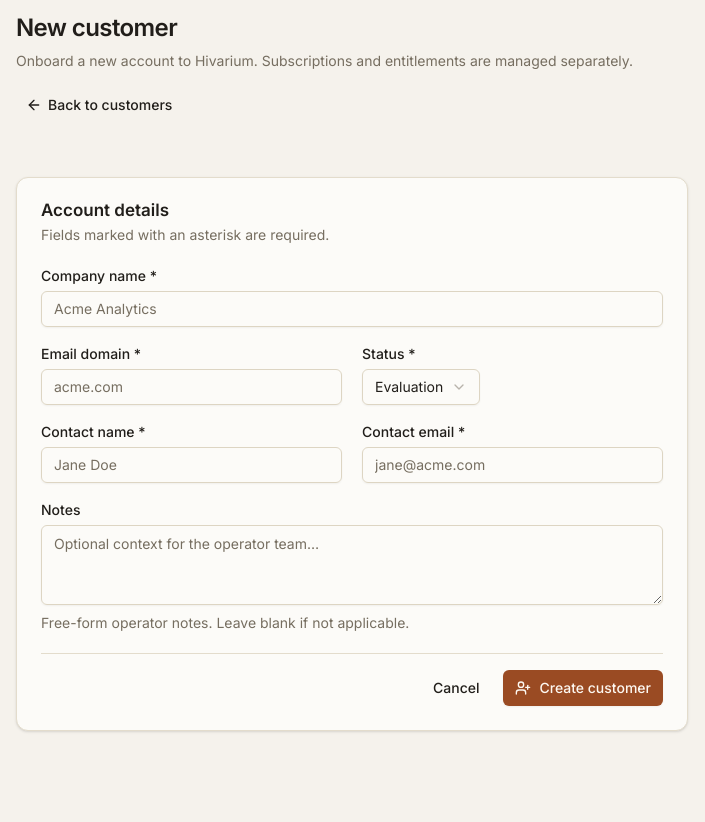
Test: CreateCustomerPage › shows a validation error for an empty company name on submit
Click the button with test id "submit-customer" at point(583, 688), box [504,670,663,706]
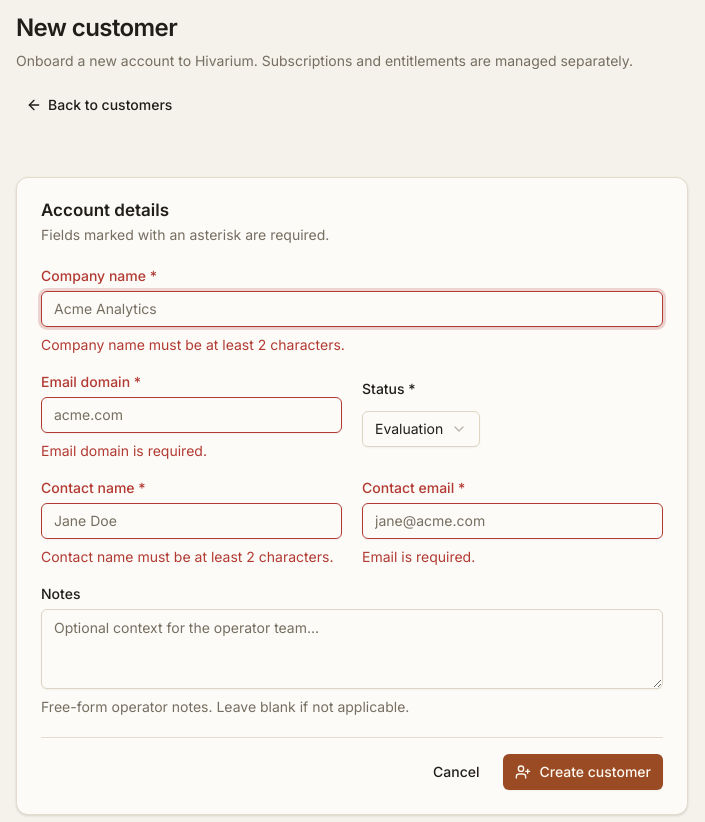
Result: the text "Company name must be at least 2 characters." is shown at [41,336,345,353]
